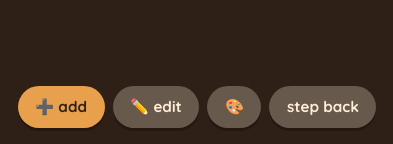
Test: Toolbar › the add button reveals note and photo choices
Click the button "➕ add".
click(61, 107)  # box [18,86,104,128]
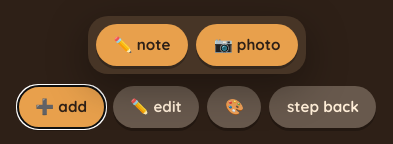
Expected: the button "✏️ note" is shown, [96,24,188,66]
Expected: the button "📷 photo" is shown, [196,24,298,66]
